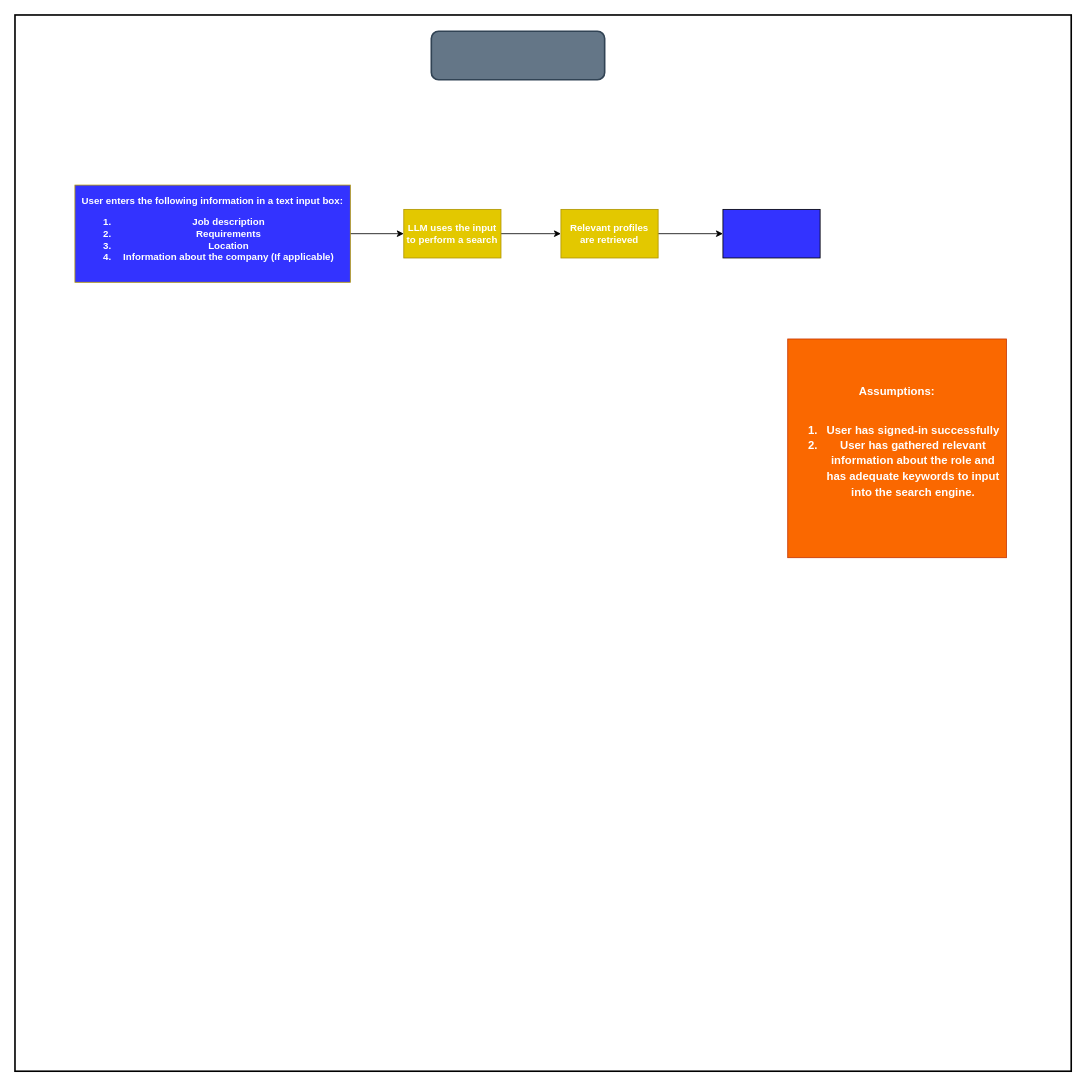
Some shapes in this 1085 by 1085 pixel diagram are drawn without their labels. Each missing label, with the centre of its shape:
"Programmable Search Engine Workflow" belongs at point (517, 55).
"User selects one or more profiles to send messages" belongs at point (771, 233).
